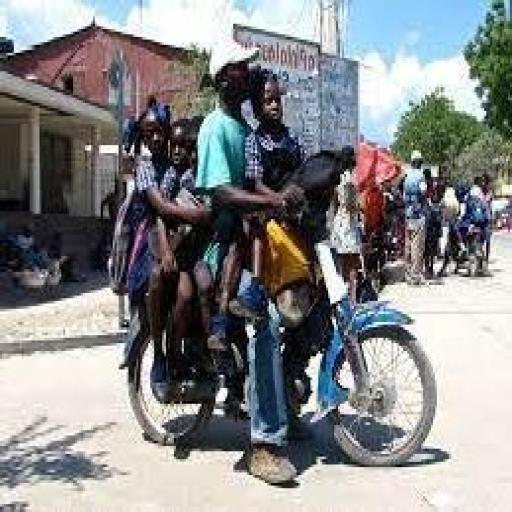no helmet: (204, 32, 270, 155)
triple riding: (85, 68, 455, 468)
